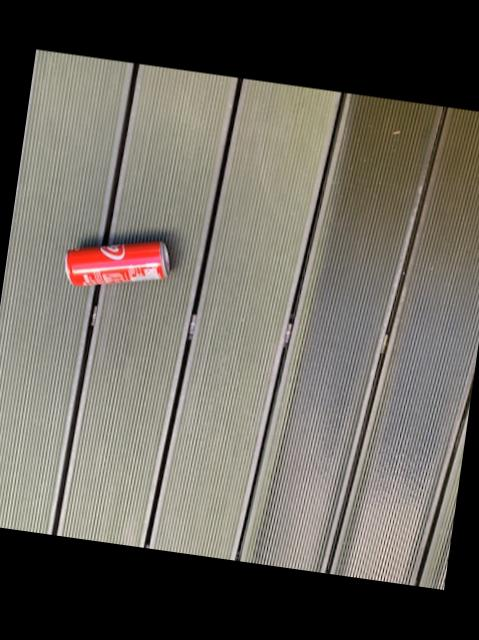metal: (65, 241, 169, 284)
